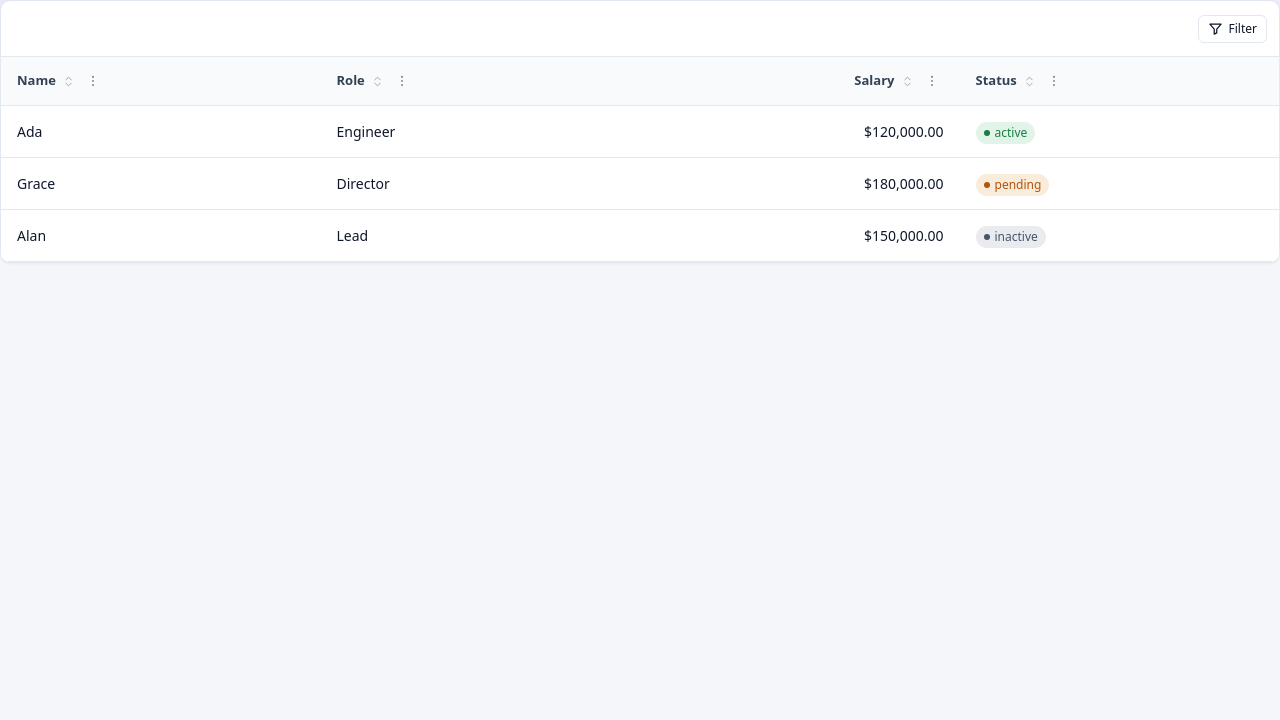
Test case: <SmartDataGrid> › closes a nested filter dropdown before the filter panel itself on Escape
Click the button "Filter".
click(1232, 28)  # box [1198,14,1267,42]
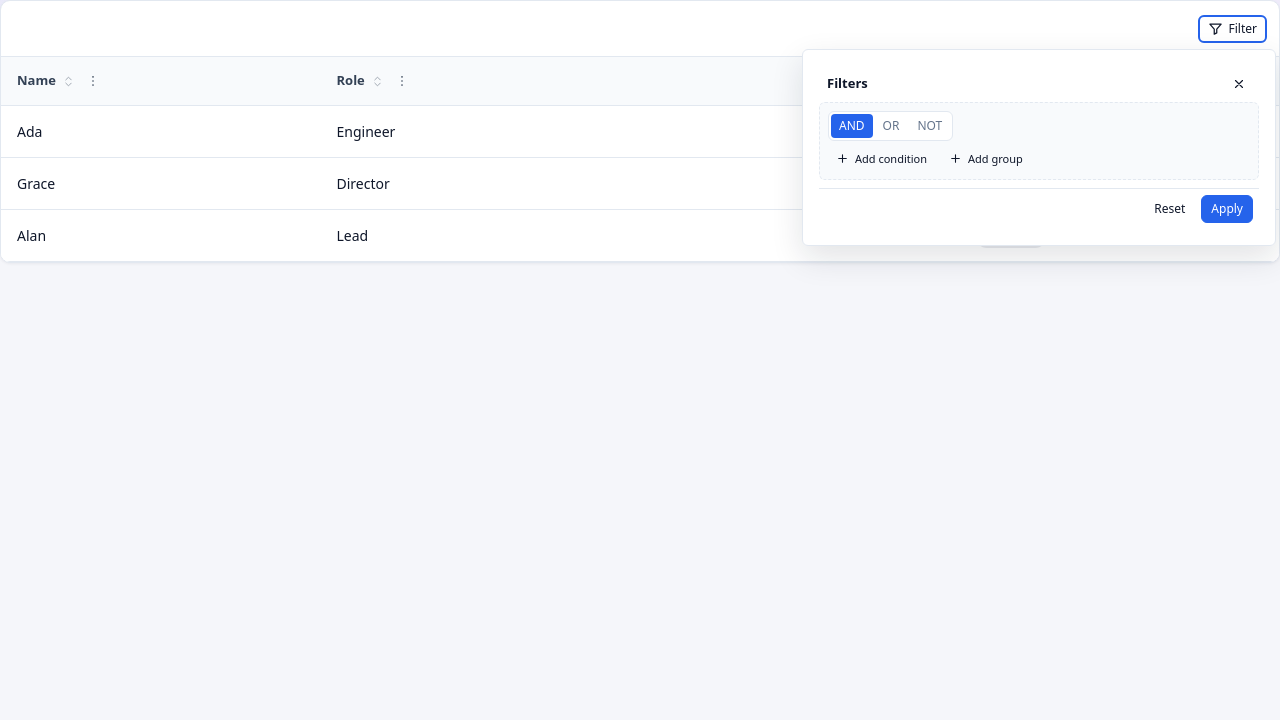
Now the dialog "Filters" is shown, box [802,48,1276,246]
Click the button "Add condition".
click(882, 158)  # box [828,146,935,170]
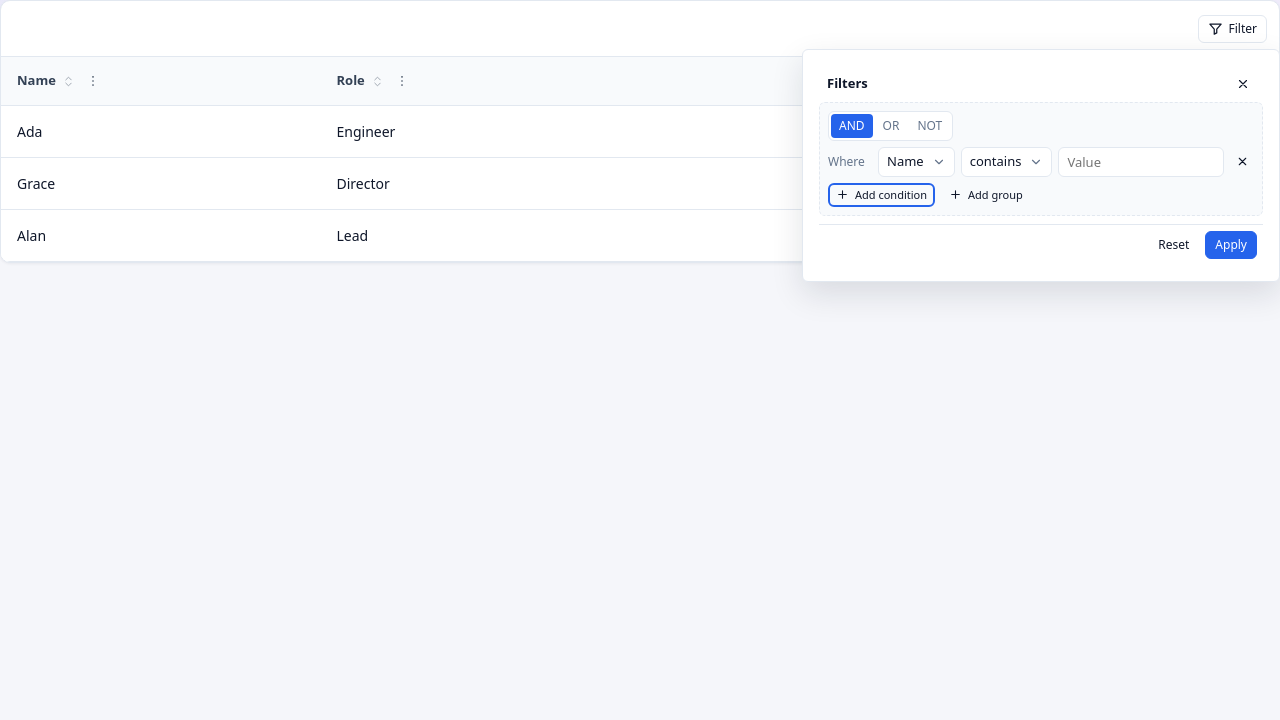
Click the button with aria-label "Column".
click(916, 162)  # box [878,146,955,176]
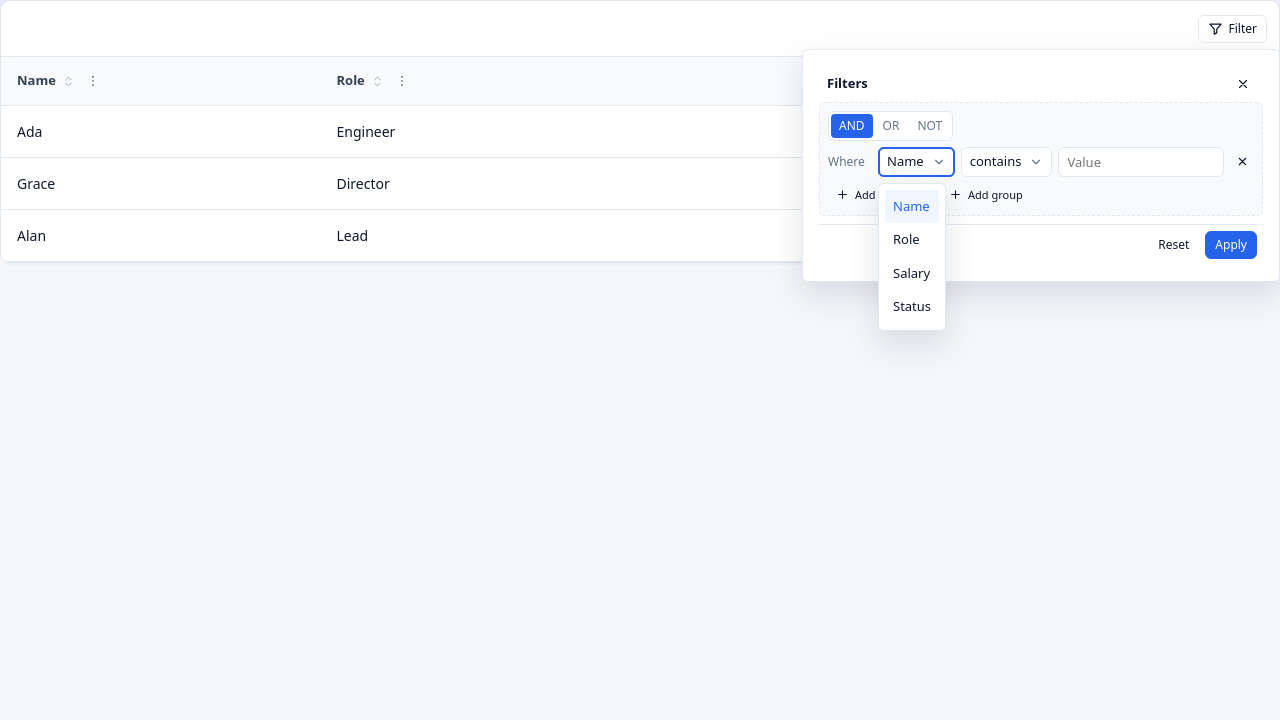
Now the list named "Column" is shown, box [885,190,939,324]
Press Escape
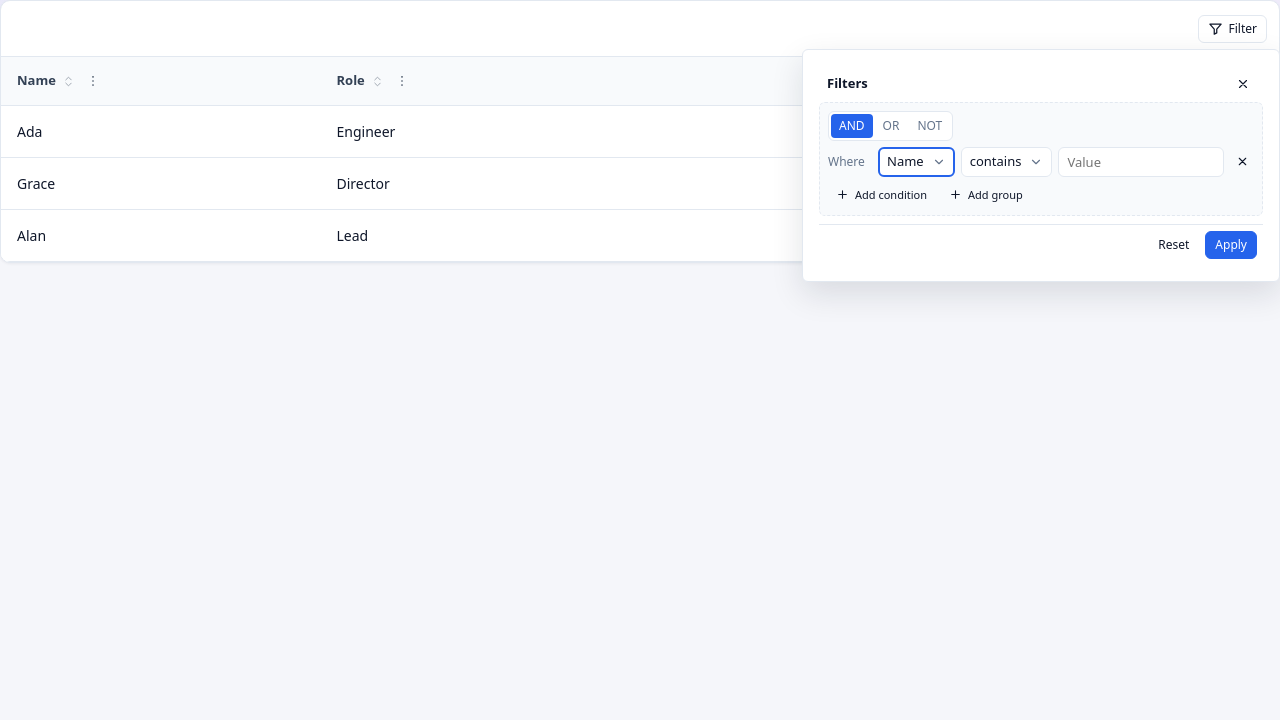
Now the dialog "Filters" is shown, box [802,48,1279,282]
Press Escape
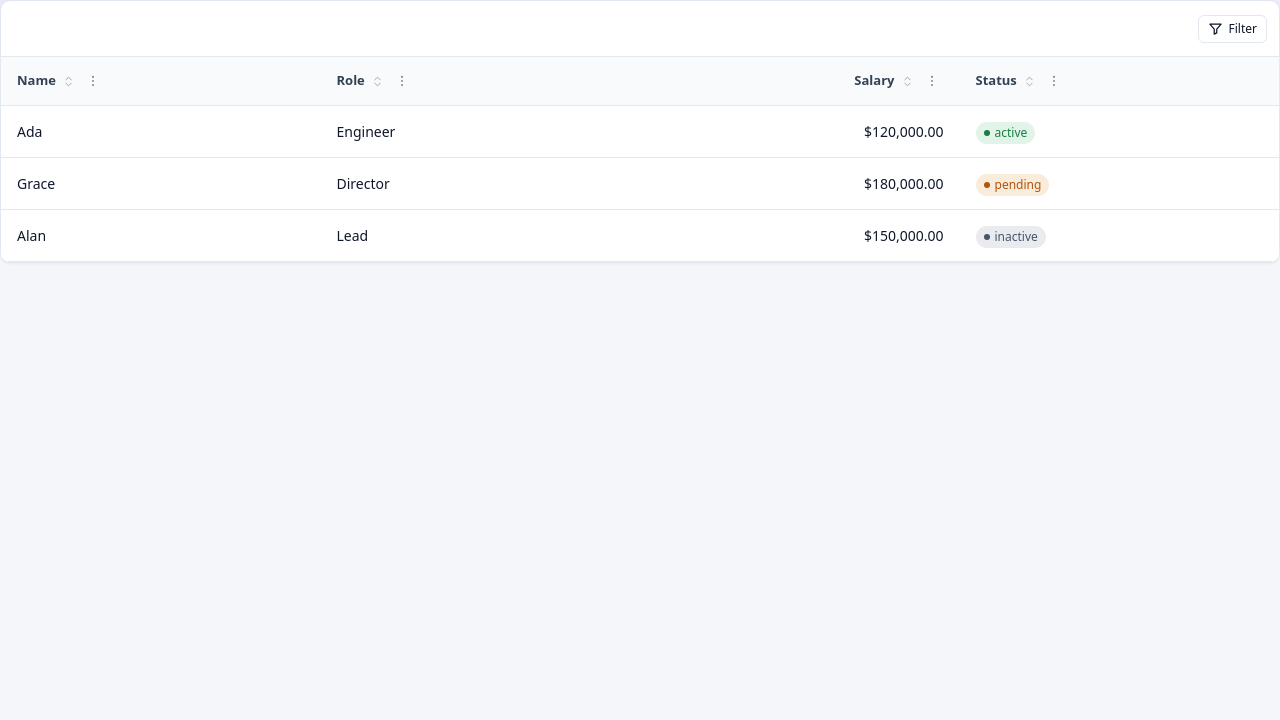
Now the text "Filters" is gone
